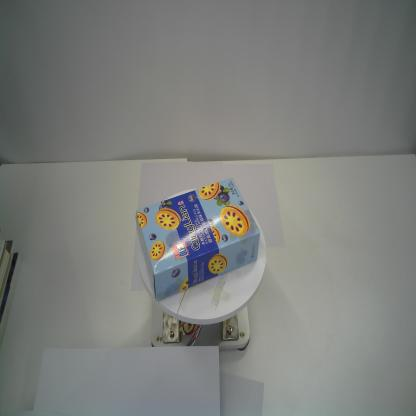Dessert: (135, 176, 261, 302)
